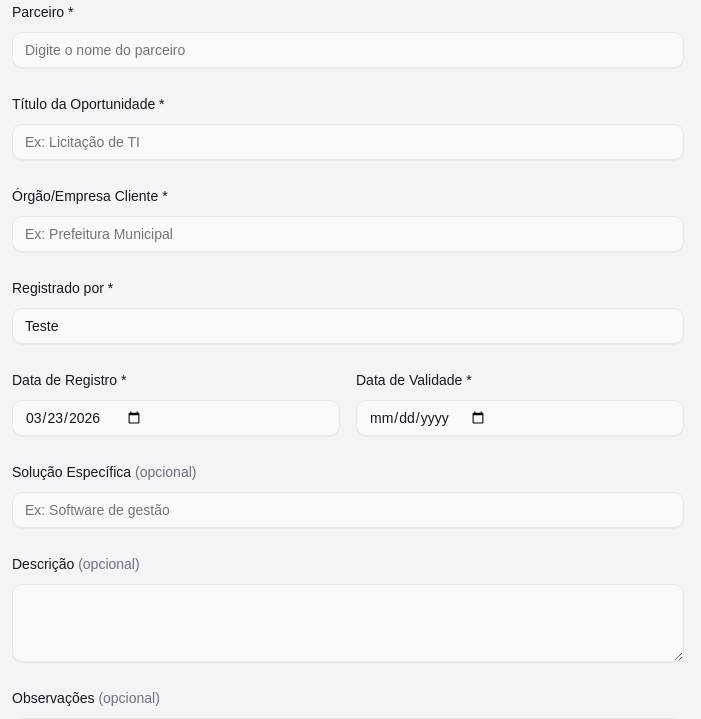
Test: OportunidadeForm › mostra sugestões de parceiros ao digitar
Type "Alpha" into the field with placeholder "Digite o nome do parceiro" at point(348, 50), box [12,32,684,68]
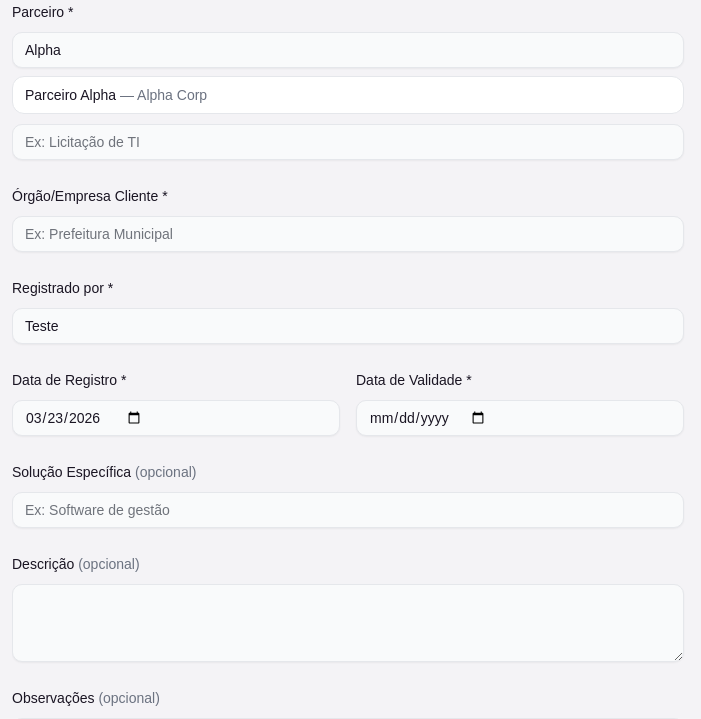
Check: the text "— Alpha Corp" is shown, box [120,87,207,103]
